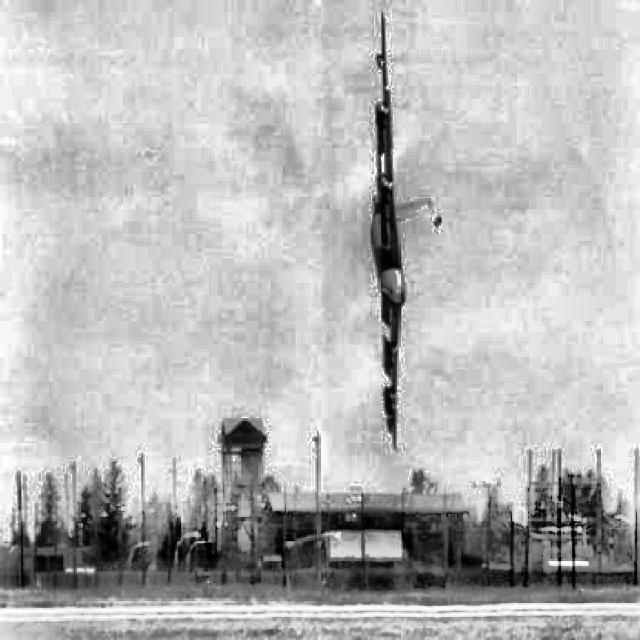B52: (370, 10, 433, 452)
